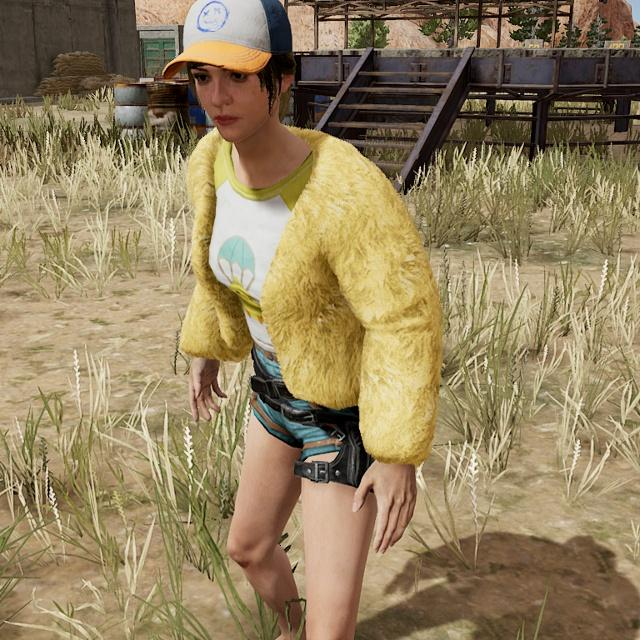head: (173, 0, 308, 145)
people: (138, 2, 448, 640)
